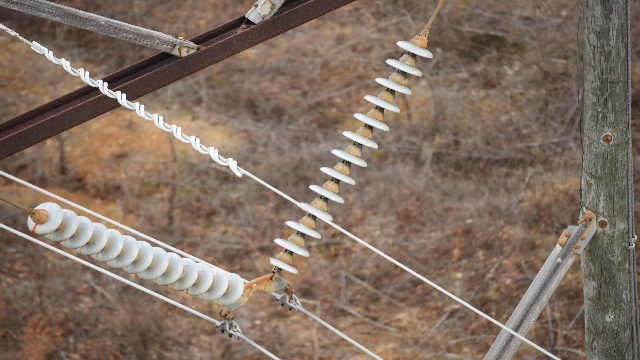broken_local: (265, 255, 274, 266)
insulator_unspecified: (266, 40, 434, 274), (27, 201, 244, 305)
pollution_flashover_local: (29, 222, 40, 233), (76, 244, 87, 255), (90, 252, 102, 262), (167, 280, 177, 291), (213, 297, 221, 308), (184, 288, 192, 295)
